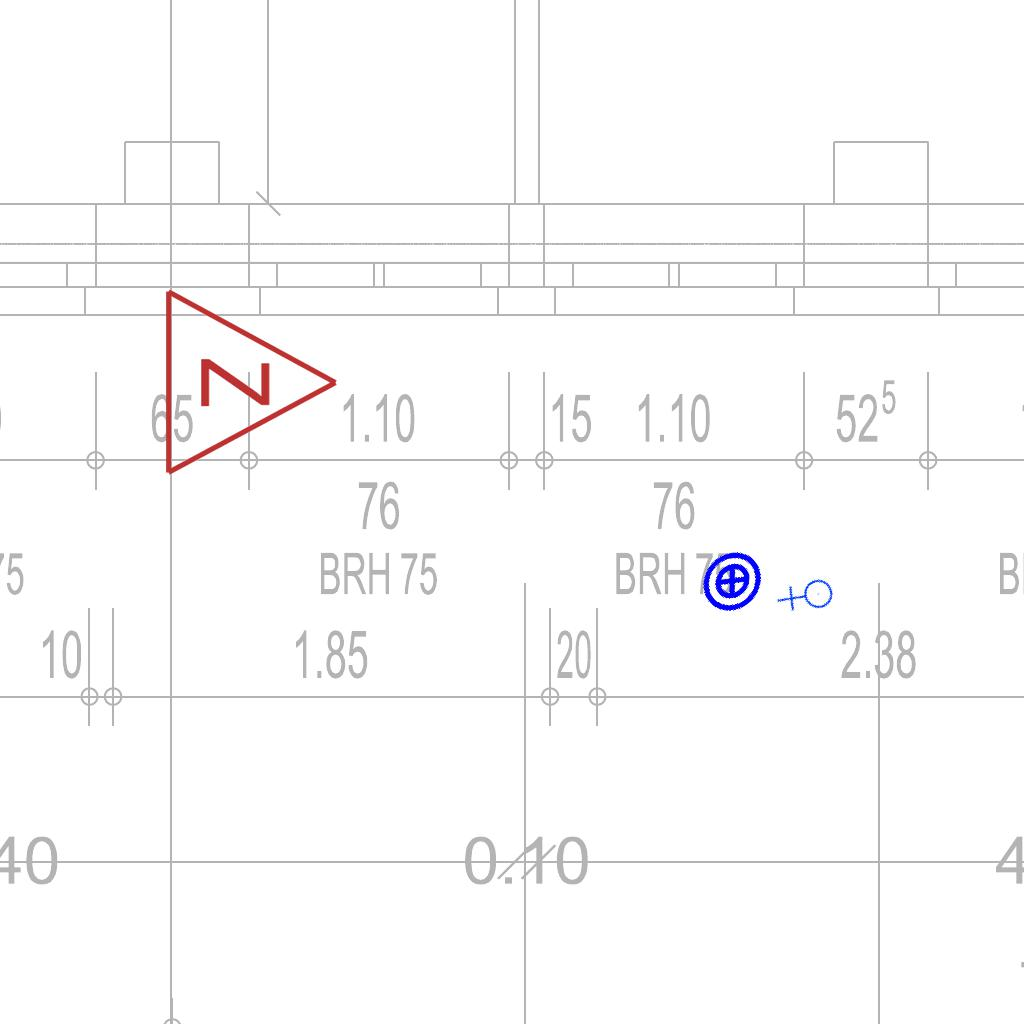Elektroanschluss_allgemein_230V_Geraeteanschlussdose_230V: (774, 564, 843, 631)
Taster_beleuchtet: (685, 534, 779, 628)
Zimmersignalleuchte: (151, 282, 351, 478)
